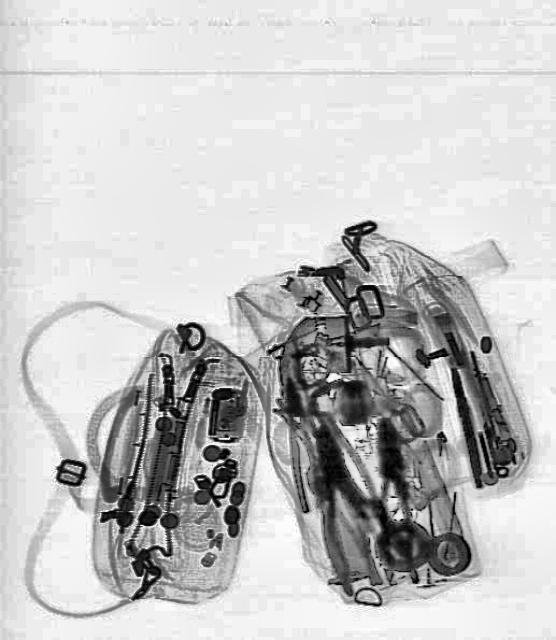Pliers: (294, 454, 382, 598), (270, 372, 339, 512), (367, 414, 419, 584)
